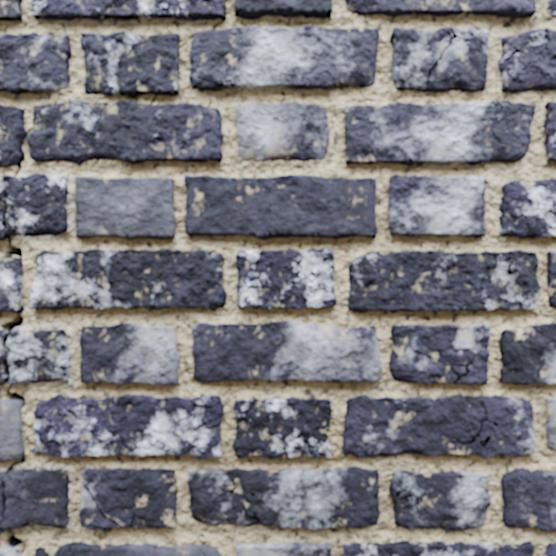brick: (0, 100, 222, 166), (190, 25, 378, 90), (185, 175, 376, 238), (345, 102, 534, 165), (33, 395, 222, 457), (342, 395, 534, 456), (188, 467, 379, 528), (348, 251, 539, 312), (33, 249, 225, 309), (192, 321, 381, 381), (81, 32, 179, 97), (390, 28, 487, 91), (75, 177, 175, 238), (389, 324, 489, 384), (236, 248, 335, 308), (388, 175, 485, 236), (80, 324, 178, 384), (390, 471, 489, 529), (233, 398, 330, 457), (81, 468, 176, 527), (236, 102, 328, 160), (0, 33, 70, 94), (31, 0, 223, 21), (499, 28, 555, 92), (499, 323, 555, 384), (501, 469, 555, 530), (499, 179, 555, 237), (345, 0, 534, 17), (343, 541, 533, 555), (35, 542, 219, 555), (235, 0, 330, 19), (79, 486, 116, 526), (0, 400, 24, 460), (0, 256, 22, 311), (237, 543, 330, 555), (544, 102, 555, 159), (546, 398, 555, 450), (547, 252, 555, 306), (0, 0, 21, 20), (0, 548, 20, 555), (545, 544, 555, 555), (548, 0, 555, 15), (30, 297, 36, 308)
broken_brick: (2, 172, 68, 236), (0, 468, 69, 529), (0, 326, 71, 385), (0, 185, 6, 240), (0, 329, 5, 341)
crack: (425, 27, 475, 87), (413, 349, 476, 383), (0, 179, 22, 260), (82, 483, 122, 527), (1, 359, 25, 407), (0, 306, 24, 354), (55, 272, 86, 308), (506, 250, 528, 295), (391, 484, 426, 512), (477, 252, 500, 291), (194, 69, 240, 87), (0, 456, 25, 487), (0, 526, 25, 553), (484, 100, 528, 114), (211, 0, 228, 30), (129, 501, 143, 527), (182, 32, 197, 46), (31, 289, 41, 308), (198, 401, 221, 409), (85, 523, 113, 529), (26, 117, 35, 135), (0, 124, 11, 138), (13, 164, 21, 177), (150, 94, 157, 105), (190, 51, 194, 64), (482, 179, 487, 185), (22, 151, 25, 159), (38, 104, 44, 107)
